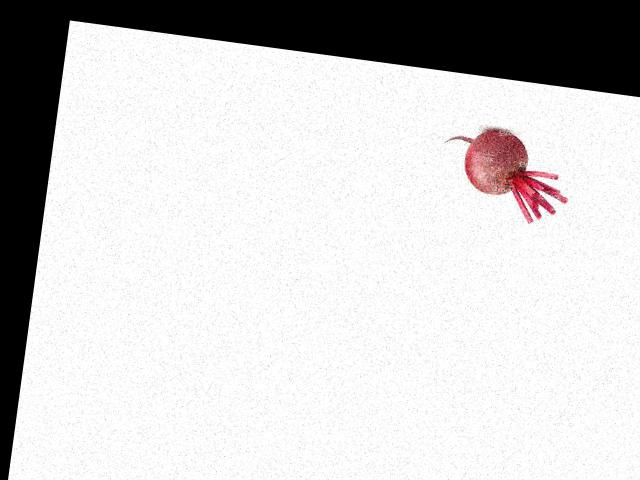beet: (434, 123, 575, 227)
